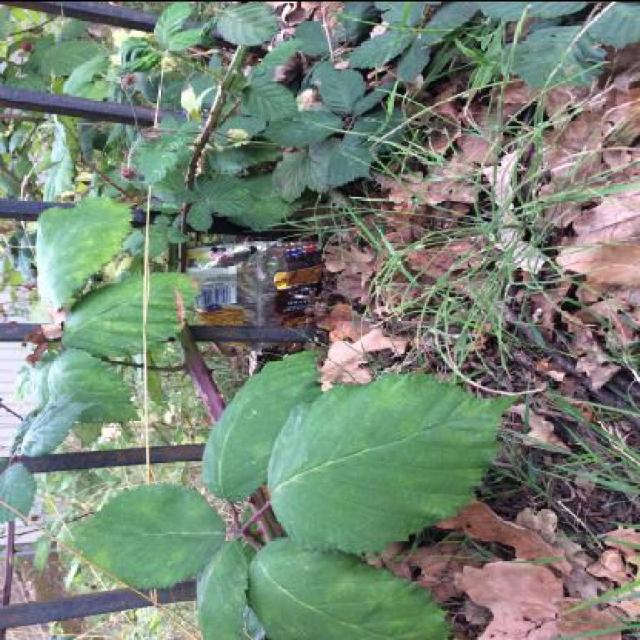plastic: (180, 237, 325, 351)
